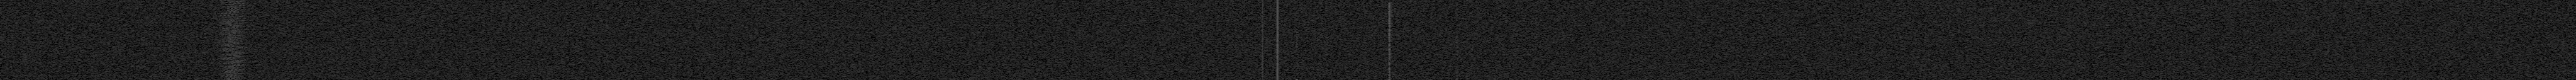wv_am: (1275, 0, 1280, 80)
wv_cw: (1262, 0, 1263, 80)
wv_lsb: (1387, 2, 1391, 80)
wv_usb: (1296, 31, 1299, 77), (1390, 2, 1393, 31), (1456, 2, 1459, 28), (1456, 28, 1459, 49), (1390, 33, 1393, 52), (1456, 57, 1459, 72), (1390, 60, 1393, 69), (1456, 49, 1459, 57), (1390, 52, 1393, 57), (1456, 75, 1459, 80), (1295, 77, 1299, 80), (1390, 75, 1393, 80), (1390, 57, 1393, 60)
wv_wbfm: (212, 0, 253, 80)
